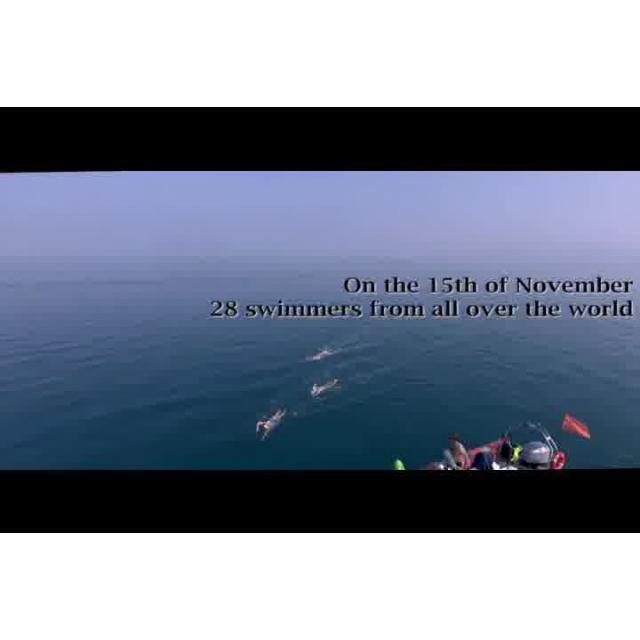human: (256, 404, 285, 440), (307, 375, 337, 399)
